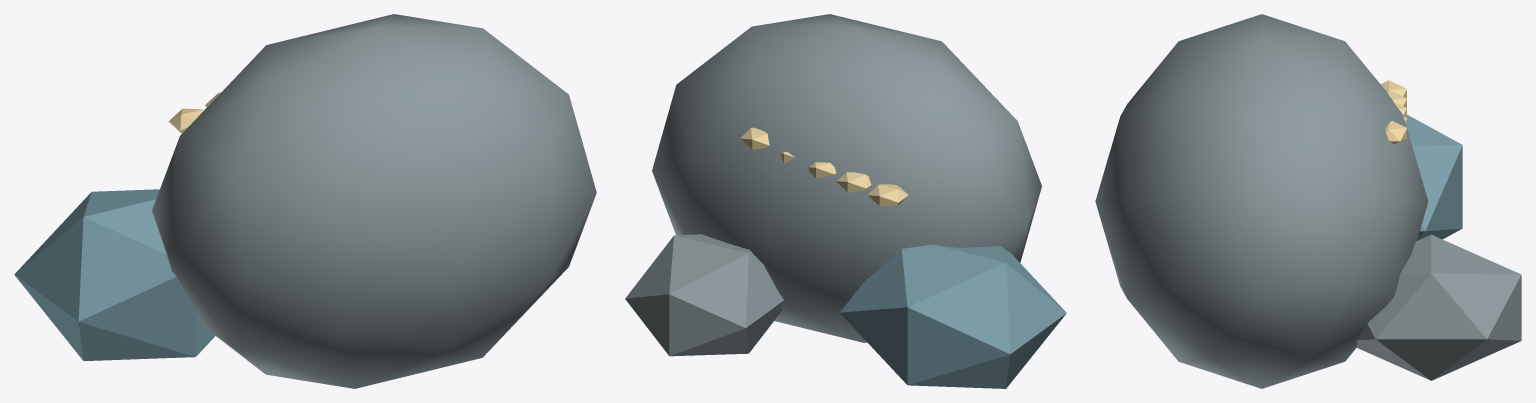
File: tidepool-rocks.glb
3 views of the same model, side by side, from view 1: azimuth 30°, elevation 25°; view 2: azimuth 150°, elevation 25°; view 3: azimuth 270°, elevation 25° (orthographic). The views are drawn at different scales.
Parts seen in each view (by area): view 1: main, left; view 2: main, left, front, limpet-0, limpet-1, limpet-4; view 3: main, front, left, limpet-4.
Part boxes in pixels (x1,y1,x2,y2): main: [152, 14, 596, 388]; left: [14, 189, 215, 360]; main: [652, 14, 1041, 342]; left: [839, 244, 1066, 388]; front: [625, 234, 783, 356]; limpet-0: [867, 184, 908, 206]; limpet-1: [836, 172, 871, 192]; limpet-4: [740, 127, 769, 149]; main: [1095, 14, 1428, 388]; front: [1356, 234, 1521, 380]; left: [1407, 114, 1462, 240]; limpet-4: [1385, 121, 1406, 144].
Size of the model in its own units: 1.72 by 1.18 by 1.41.
